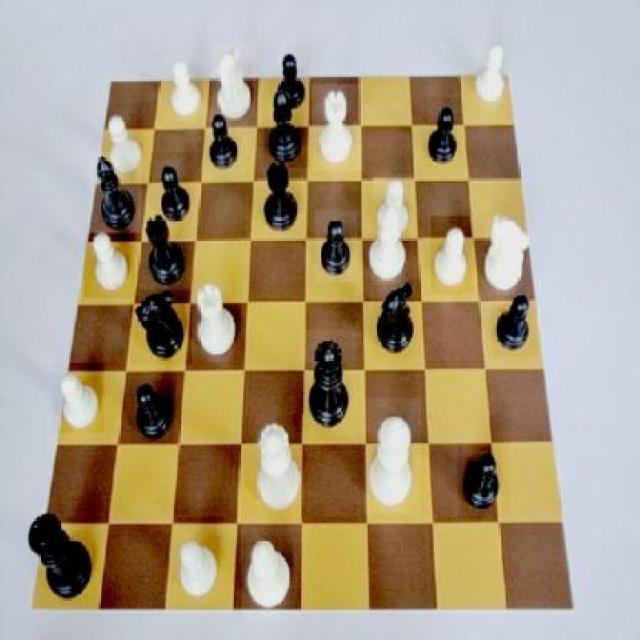bishop: (88, 152, 140, 233), (264, 80, 310, 169)
black-bishop: (17, 496, 101, 610)
black-king: (131, 286, 193, 364), (374, 278, 420, 358)
black-knight: (458, 442, 511, 518), (152, 160, 200, 226), (492, 288, 537, 358), (315, 211, 358, 283), (423, 97, 465, 169), (131, 379, 175, 446), (204, 108, 243, 177), (271, 44, 311, 110)
black-pawn: (303, 330, 356, 438)
black-queen: (138, 208, 192, 290), (257, 155, 304, 238)
black-rook: (240, 524, 300, 618), (368, 202, 408, 286)
white-bishop: (364, 398, 420, 516)
white-king: (483, 204, 534, 296), (212, 43, 257, 125)
white-knight: (84, 226, 136, 299), (54, 363, 104, 433), (174, 530, 221, 602), (432, 217, 475, 295), (100, 110, 149, 174), (472, 37, 512, 112), (372, 174, 415, 238), (164, 58, 204, 122)
white-pawn: (254, 414, 308, 518)
white-queen: (312, 85, 363, 172), (192, 280, 240, 361)
